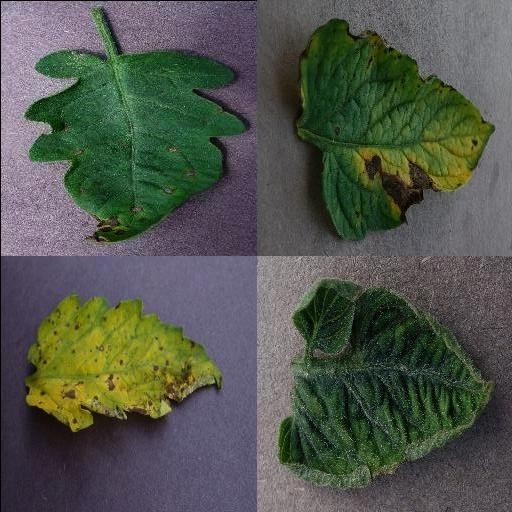Early Blight: (292, 22, 494, 243)
Septoria: (22, 49, 245, 245), (22, 295, 222, 432)
Yellow Leaf Curl Virus: (275, 275, 493, 487)
